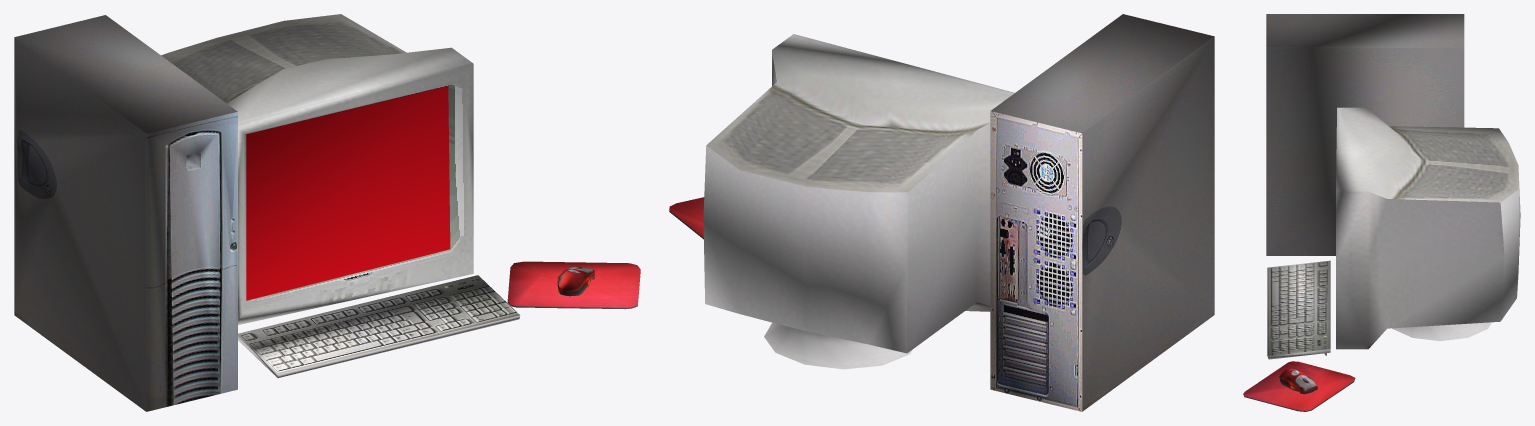
File: PC_Tex.glb
3 views of the same model, side by side, from view 1: azimuth 30°, elevation 25°; view 2: azimuth 150°, elevation 25°; view 3: azimuth 270°, elevation 25° (orthographic). The views are drawn at different scales.
Visible parts, largest first — view 1: mesh4_noesis_meshnode_0004.001, mesh4_noesis_meshnode_0004, mesh4_noesis_meshnode_0004.005, mesh4_noesis_meshnode_0004.006, mesh4_noesis_meshnode_0004.007; view 2: mesh4_noesis_meshnode_0004.001, mesh4_noesis_meshnode_0004, mesh4_noesis_meshnode_0004.002, mesh4_noesis_meshnode_0004.006; view 3: mesh4_noesis_meshnode_0004, mesh4_noesis_meshnode_0004.001, mesh4_noesis_meshnode_0004.005, mesh4_noesis_meshnode_0004.006, mesh4_noesis_meshnode_0004.002, mesh4_noesis_meshnode_0004.007.
Boxes of the visible parts, x1,y1,x2,y2 form: mesh4_noesis_meshnode_0004.001: (14,15,237,411); mesh4_noesis_meshnode_0004: (161,14,473,324); mesh4_noesis_meshnode_0004.005: (238,275,520,377); mesh4_noesis_meshnode_0004.006: (507,261,640,309); mesh4_noesis_meshnode_0004.007: (557,267,594,296); mesh4_noesis_meshnode_0004.001: (990,14,1214,411); mesh4_noesis_meshnode_0004: (703,34,1014,353); mesh4_noesis_meshnode_0004.002: (764,322,912,369); mesh4_noesis_meshnode_0004.006: (669,197,704,239); mesh4_noesis_meshnode_0004: (1336,107,1520,349); mesh4_noesis_meshnode_0004.001: (1266,14,1464,255); mesh4_noesis_meshnode_0004.005: (1267,260,1330,359); mesh4_noesis_meshnode_0004.006: (1243,361,1355,411); mesh4_noesis_meshnode_0004.002: (1392,322,1491,341); mesh4_noesis_meshnode_0004.007: (1279,369,1317,394).
Bounding box in the file's own units: 2.47 × 1.27 × 1.53.
Materials: 11 (10 with a texture image).
